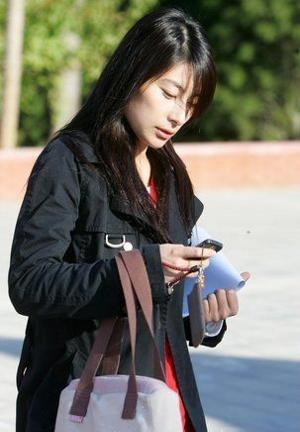person: (9, 10, 251, 432)
